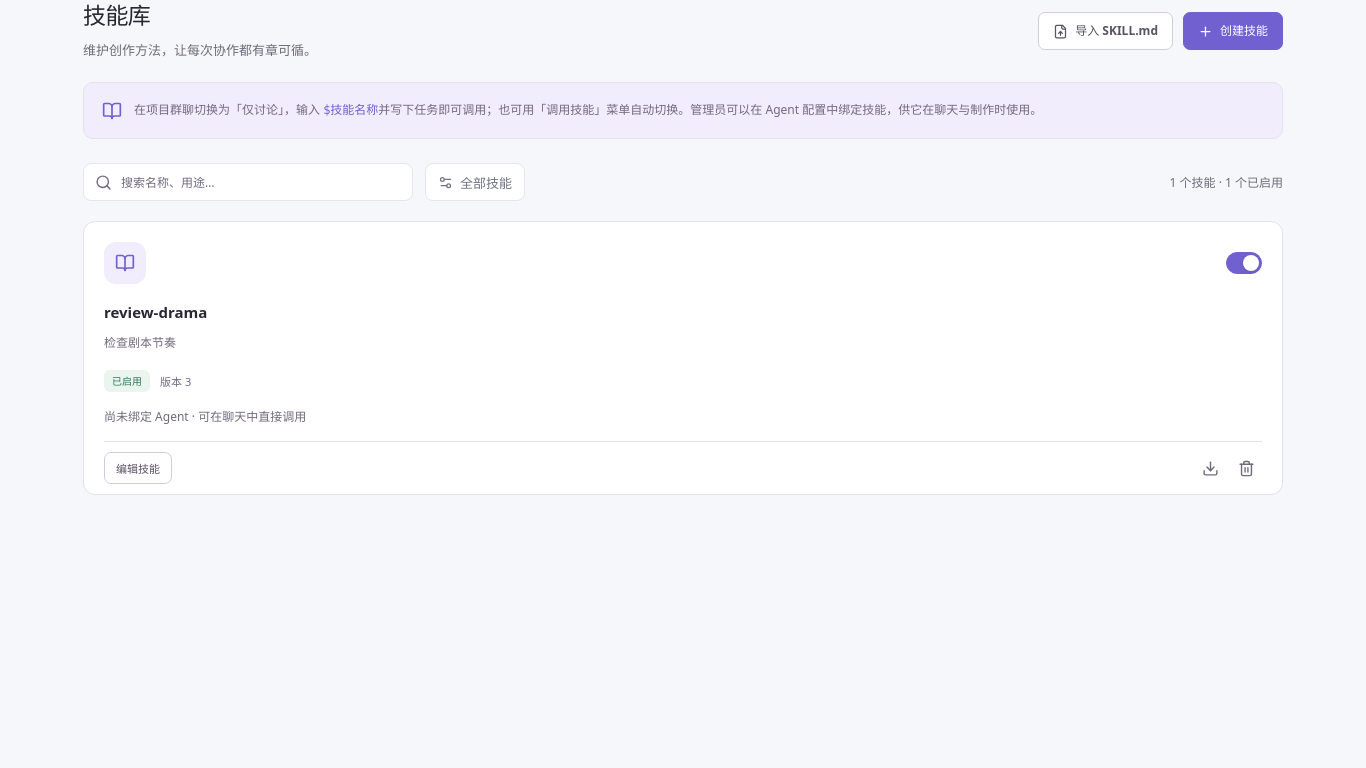
Scenario: explains invalid skill names inline and leaves saving available for correction
Click the button with aria-label "编辑技能 review-drama".
click(138, 468)  # box [104,452,172,484]
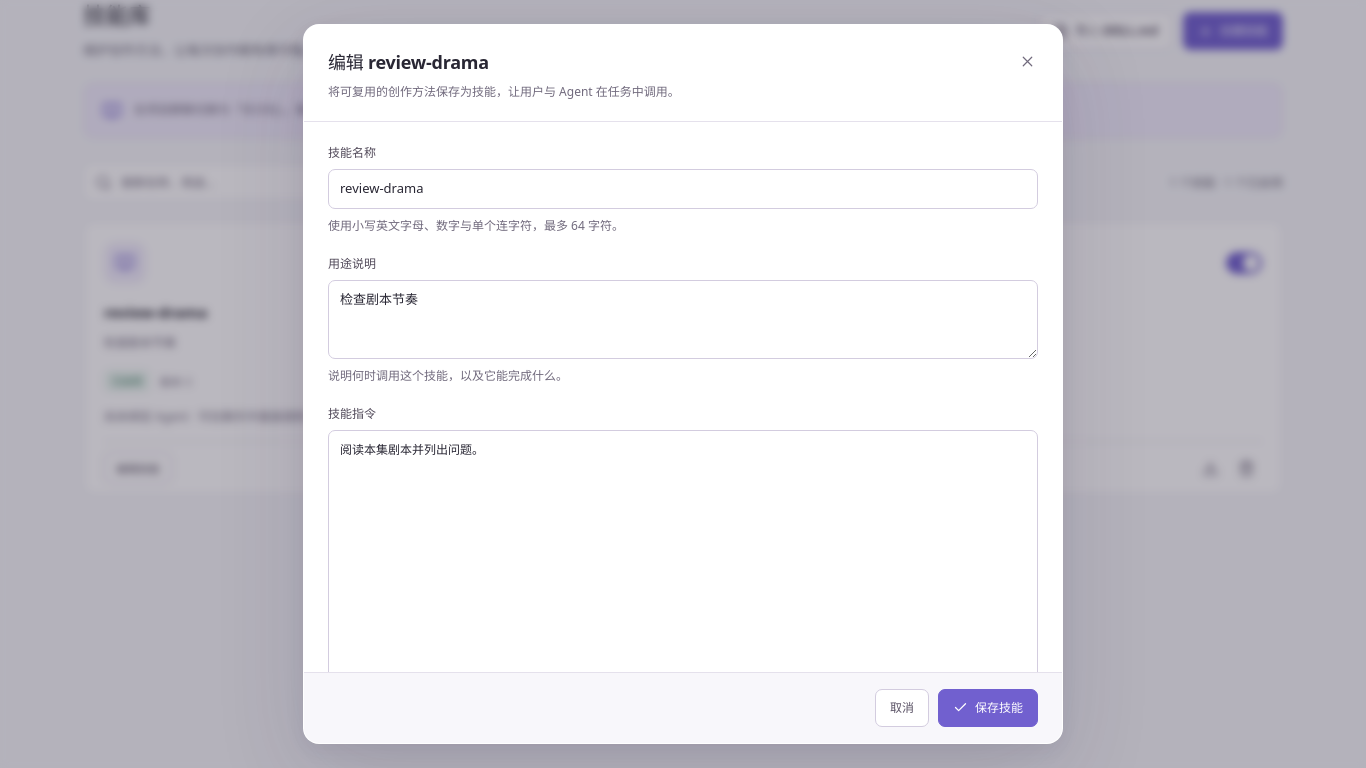
Type "Invalid--Name" into the field labelled "技能名称".
click(683, 189); type("Invalid--Name")  # box [328,169,1038,209]
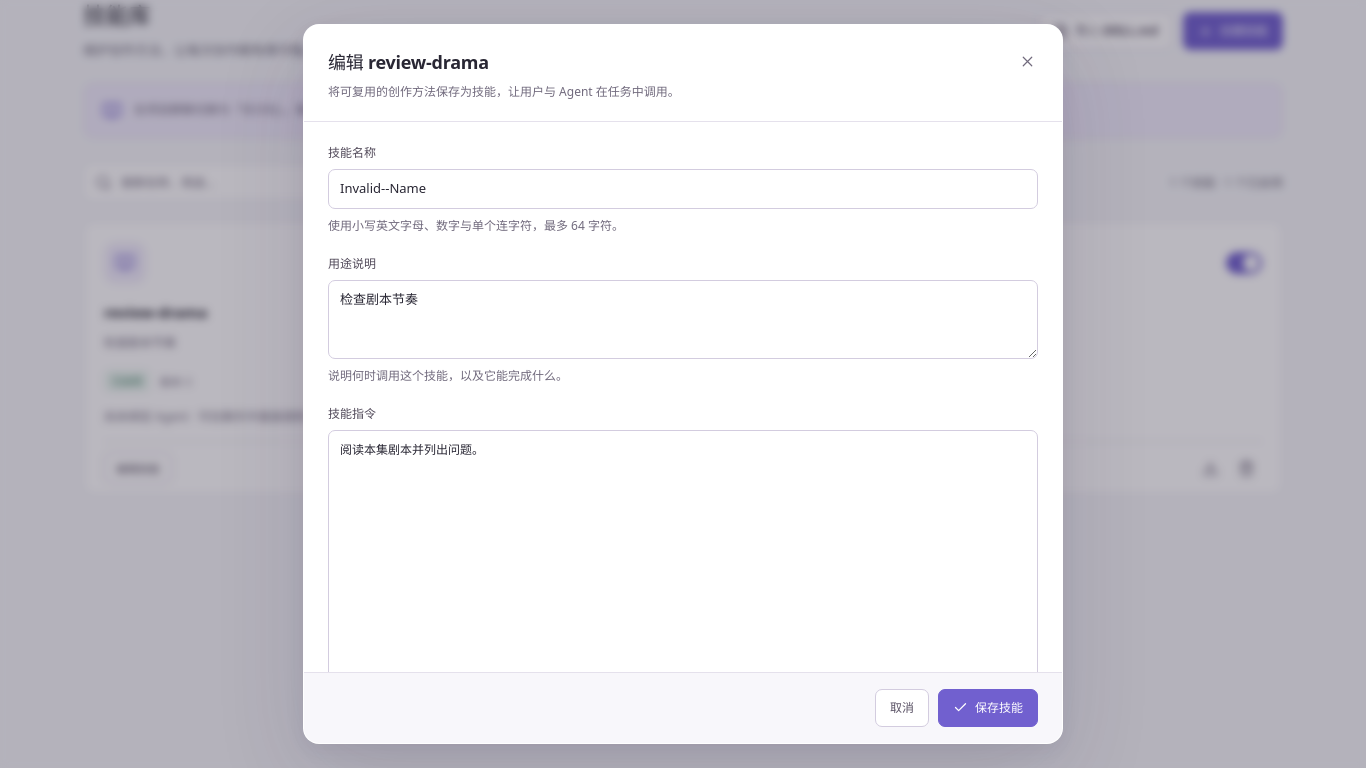
Now the button "保存技能" is enabled
Click the button "保存技能".
click(988, 708)  # box [938,689,1038,727]
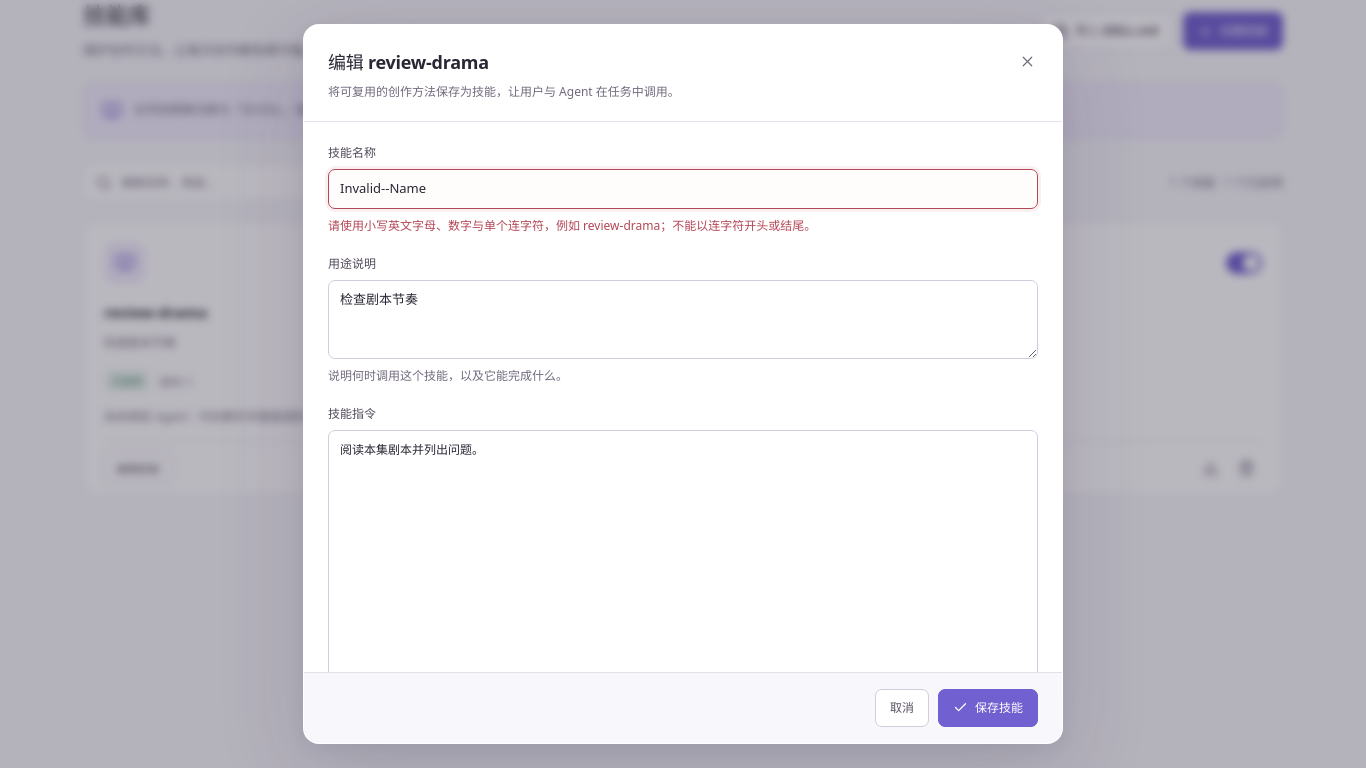
Now the text "请使用小写英文字母、数字与单个连字符，例如 review-drama；不能以连字符开头或结尾。" is shown, box [328,217,816,234]
